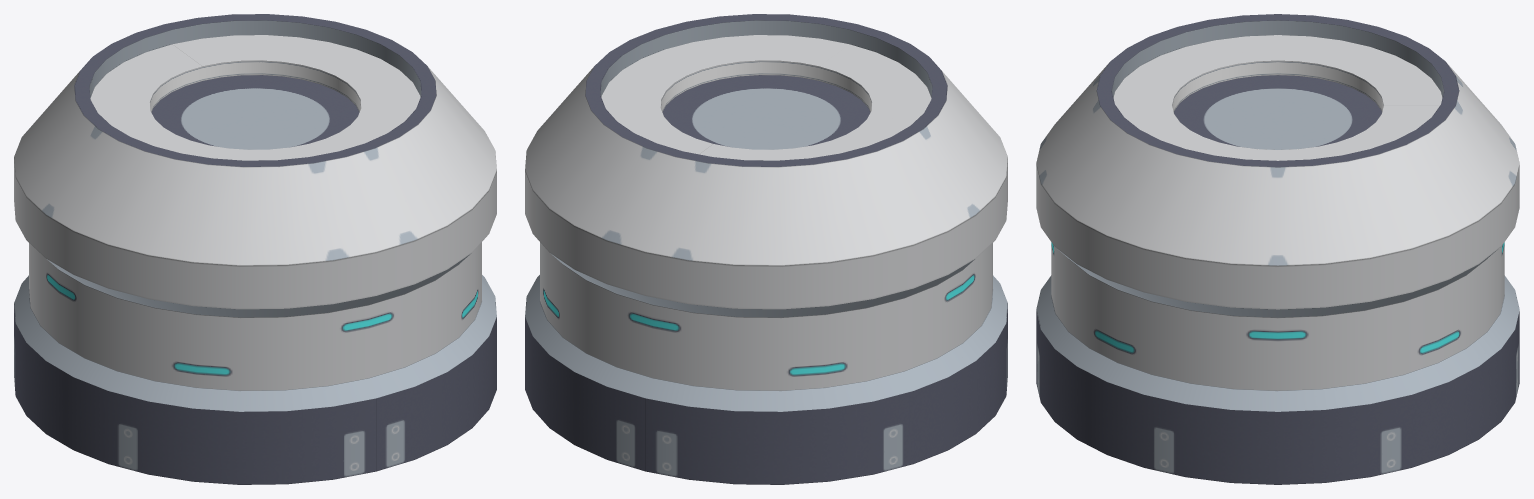
File: Tube_End_01.FBX
The picture shows the model from 3 angles, left to right: view 1: azimuth 30°, elevation 25°; view 2: azimuth 150°, elevation 25°; view 3: azimuth 270°, elevation 25°; orthographic projection.
Parts seen in each view (by area): view 1: Tube_End_01; view 2: Tube_End_01; view 3: Tube_End_01.
Part boxes in pixels (x1,y1,x2,y2): Tube_End_01: (14, 14, 496, 484); Tube_End_01: (525, 14, 1007, 484); Tube_End_01: (1036, 14, 1519, 484).
Bounding box in the file's own units: 1.5 × 1 × 1.5.
2 materials, 2 textured.
